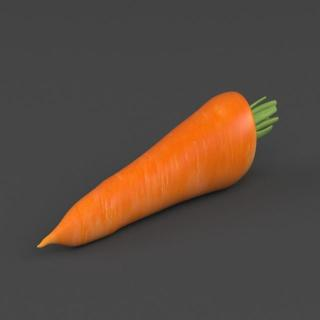carrot: (36, 87, 258, 255)
